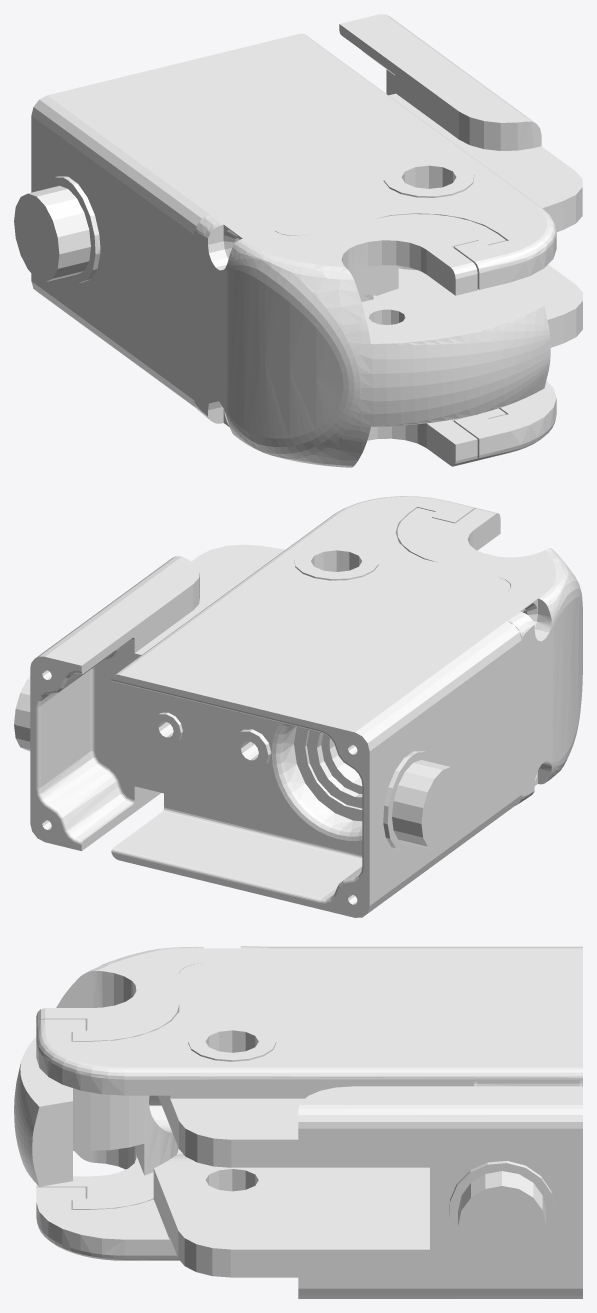
File: rh_ring_metacarpals_vis.obj
The picture shows the model from 3 angles, top to bottom: view 1: azimuth 30°, elevation 25°; view 2: azimuth 150°, elevation 25°; view 3: azimuth 270°, elevation 25°; orthographic projection. The views are drawn at different scales.
Visible parts, largest first — view 1: rh_ring_metacarpals; view 2: rh_ring_metacarpals; view 3: rh_ring_metacarpals.
Part boxes in pixels (x1=…): rh_ring_metacarpals: x1=14, y1=14, x2=582, y2=467; rh_ring_metacarpals: x1=14, y1=496, x2=582, y2=917; rh_ring_metacarpals: x1=14, y1=946, x2=582, y2=1298.
Size of the model in its own units: 0.0276 by 0.0122 by 0.0322.
Materials: 1 (1 with a texture image).
